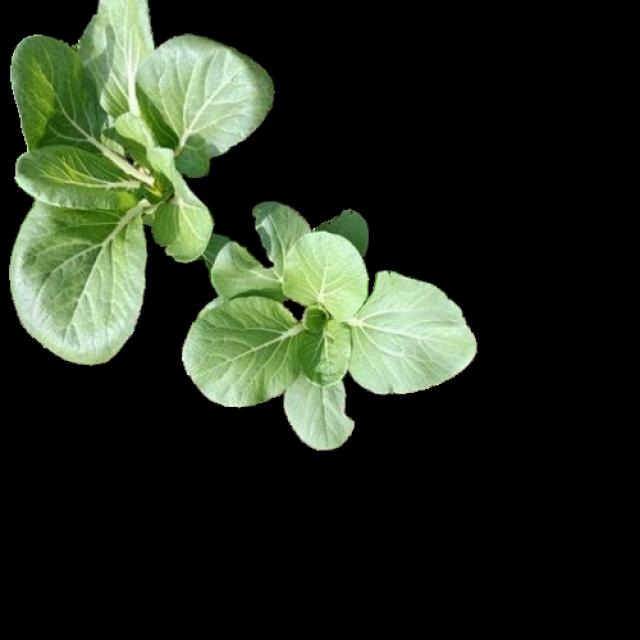healthy: (13, 1, 278, 361), (182, 197, 472, 446)
mature: (10, 1, 275, 361)
not-mature: (184, 200, 475, 448)
